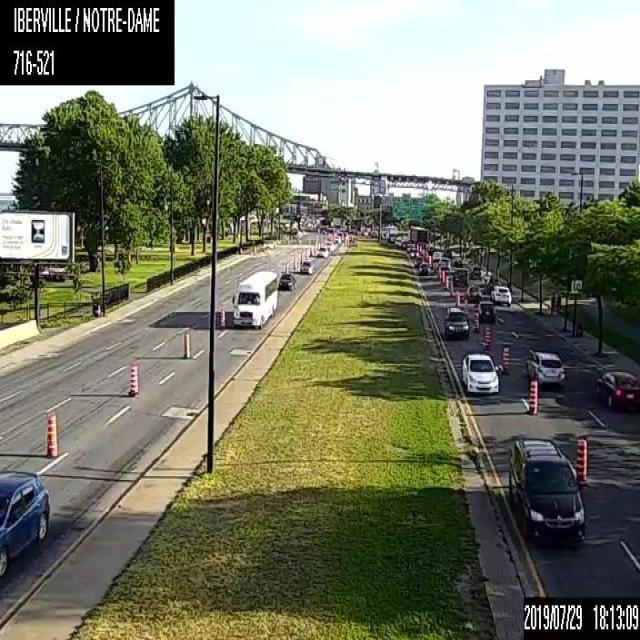bus: (230, 268, 277, 328)
construction: (573, 436, 586, 481), (44, 410, 56, 458), (528, 377, 538, 415), (128, 359, 138, 396), (500, 341, 510, 375), (179, 326, 189, 358), (216, 303, 224, 329), (483, 323, 490, 348), (472, 308, 478, 332), (449, 280, 454, 296), (455, 291, 459, 306), (444, 275, 448, 289), (291, 256, 295, 269), (284, 262, 288, 274), (437, 266, 441, 278), (428, 255, 432, 265), (299, 252, 302, 262), (253, 244, 256, 254), (309, 246, 312, 256), (442, 269, 444, 282), (313, 244, 316, 252), (305, 248, 307, 259), (344, 236, 346, 245), (419, 244, 421, 252), (416, 242, 418, 250), (346, 237, 348, 245)
pedestrian: (550, 290, 554, 314), (556, 292, 560, 314)
vehicle: (506, 435, 589, 548), (0, 467, 50, 577), (594, 368, 639, 409), (459, 350, 499, 394), (524, 350, 566, 386), (442, 306, 469, 338), (490, 284, 511, 306), (477, 300, 495, 324), (409, 224, 427, 242), (452, 268, 467, 288), (278, 274, 296, 290), (464, 284, 478, 302), (299, 259, 314, 272), (437, 256, 450, 270), (386, 225, 396, 242), (468, 264, 480, 278), (418, 261, 428, 274), (316, 246, 328, 256), (409, 246, 418, 258), (414, 255, 423, 267), (323, 240, 333, 250), (442, 247, 451, 257), (432, 250, 440, 261), (400, 239, 408, 249), (406, 242, 414, 252), (333, 235, 340, 242)
